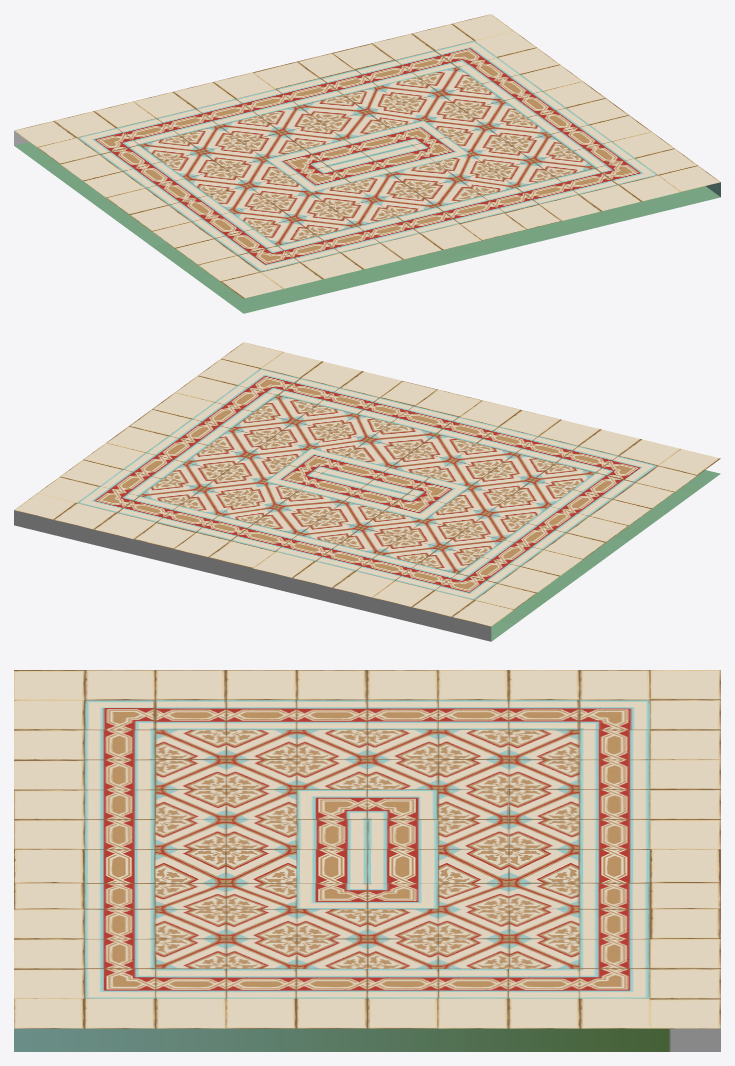
Rendered from Mansion_Floor.fbx.
3 views of the same model, one above another, from view 1: azimuth 30°, elevation 25°; view 2: azimuth 150°, elevation 25°; view 3: azimuth 270°, elevation 25° (orthographic). The views are drawn at different scales.
Parts seen in each view (by area): view 1: Floor2; view 2: Floor2; view 3: Floor2.
Boxes of the visible parts, x1,y1,x2,y2 form: Floor2: (14, 14, 720, 313); Floor2: (14, 342, 720, 641); Floor2: (14, 670, 720, 1051).
Size of the model in its own units: 1113 by 33.7 by 928.
